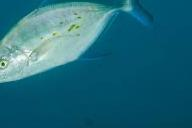Carangidae -Jacks-: (0, 0, 156, 88)
